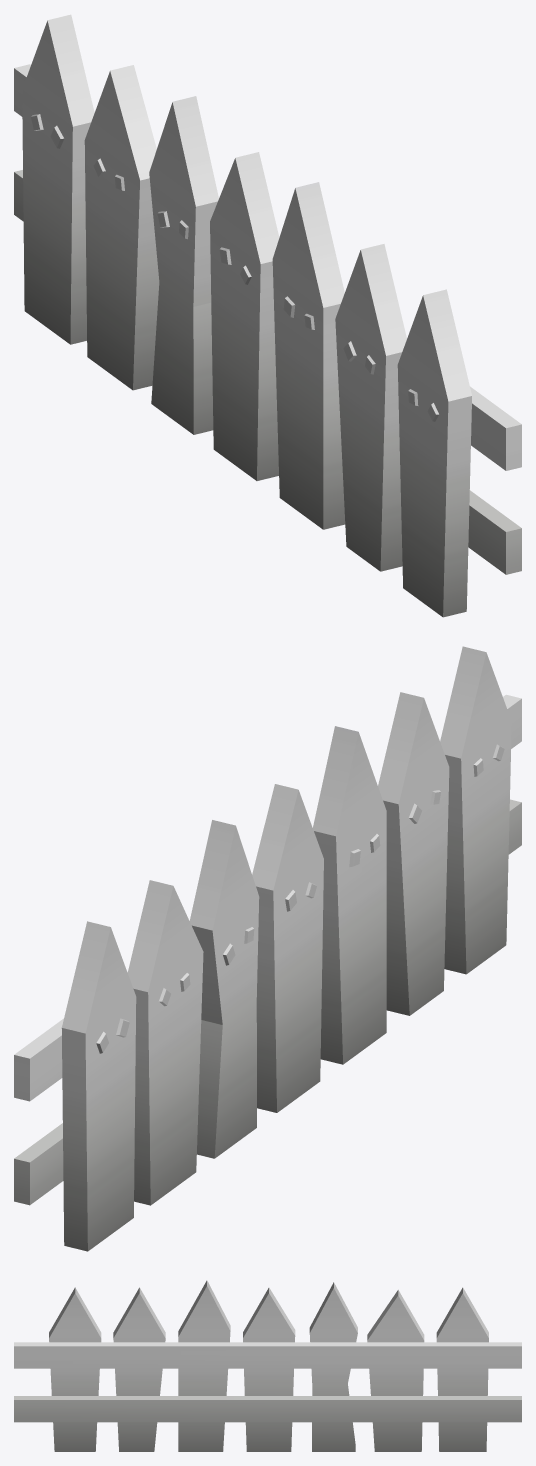
Rendered from Fence_1_A_1.fbx.
The picture shows the model from 3 angles, top to bottom: view 1: azimuth 30°, elevation 25°; view 2: azimuth 150°, elevation 25°; view 3: azimuth 270°, elevation 25°; orthographic projection. The views are drawn at different scales.
Parts seen in each view (by area): view 1: Fence_1_A_1; view 2: Fence_1_A_1; view 3: Fence_1_A_1.
Part boxes in pixels (bbox=[...]): Fence_1_A_1: bbox=[14, 14, 521, 617]; Fence_1_A_1: bbox=[14, 646, 521, 1251]; Fence_1_A_1: bbox=[14, 1280, 521, 1451].
Bounding box in the file's own units: 9.86 × 71.1 × 197.
